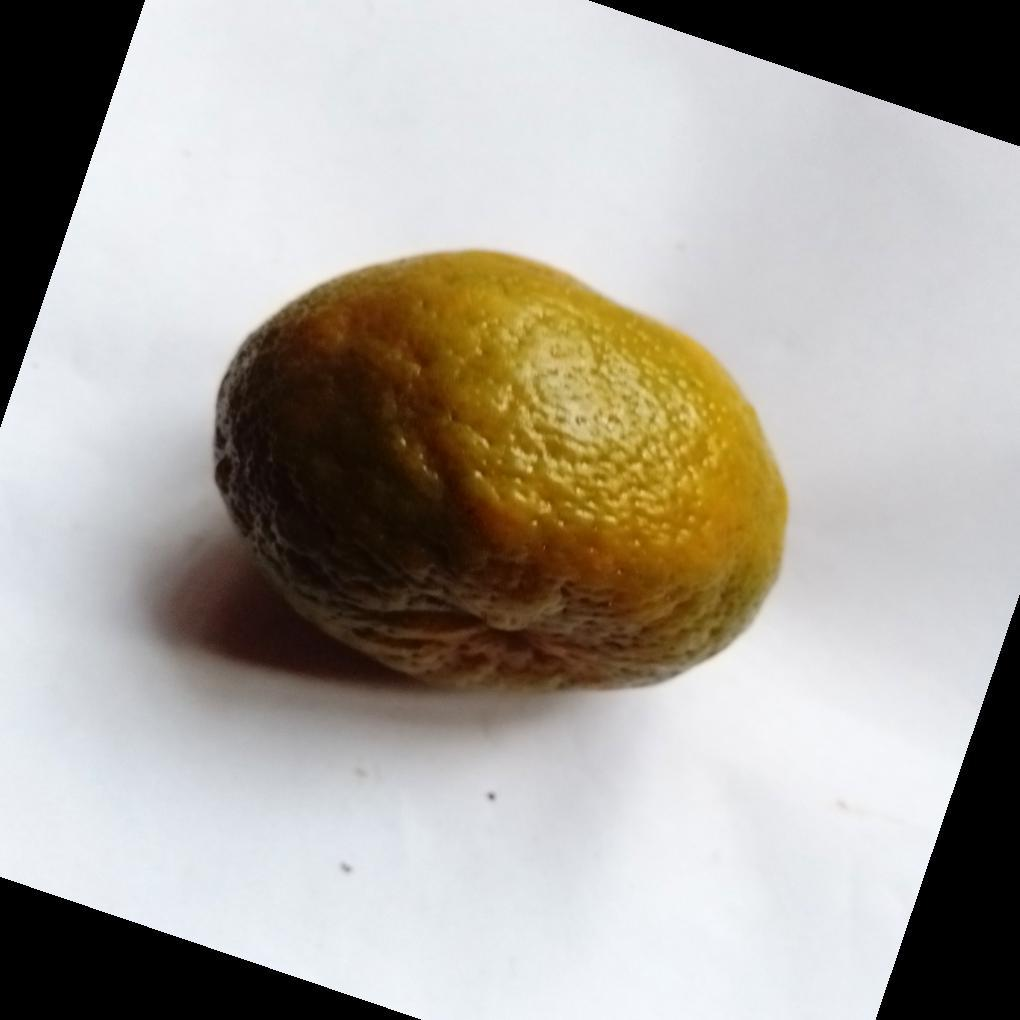FreshOrange: (209, 250, 790, 695)
